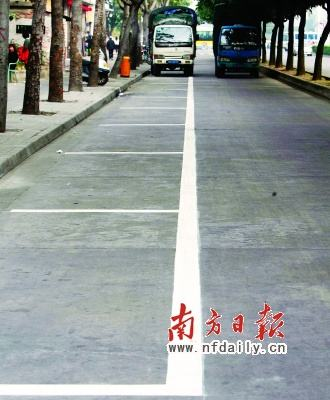slot_nocar: (1, 184, 221, 400), (1, 134, 208, 229), (37, 115, 204, 165), (84, 95, 200, 131), (107, 87, 206, 115), (114, 78, 200, 102), (134, 72, 197, 88)
